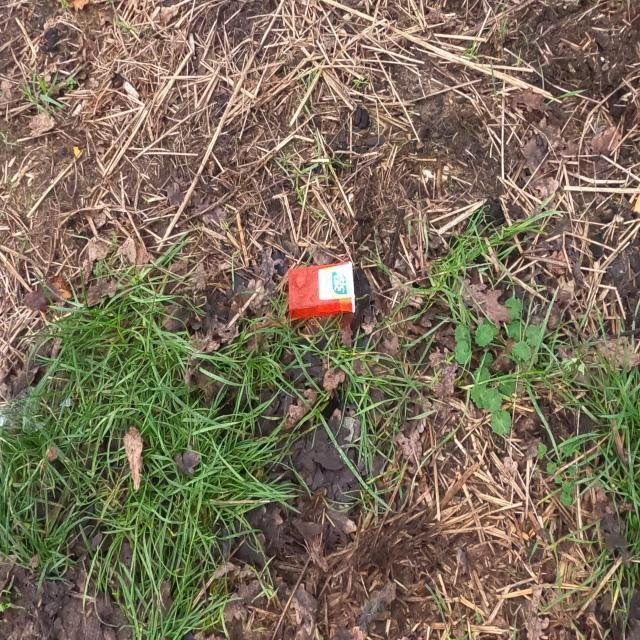Plastic: (288, 261, 356, 321)
